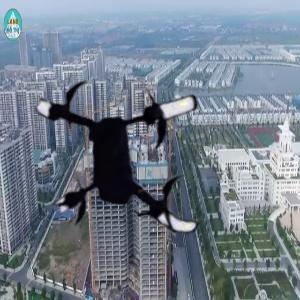drone: (29, 52, 236, 259)
